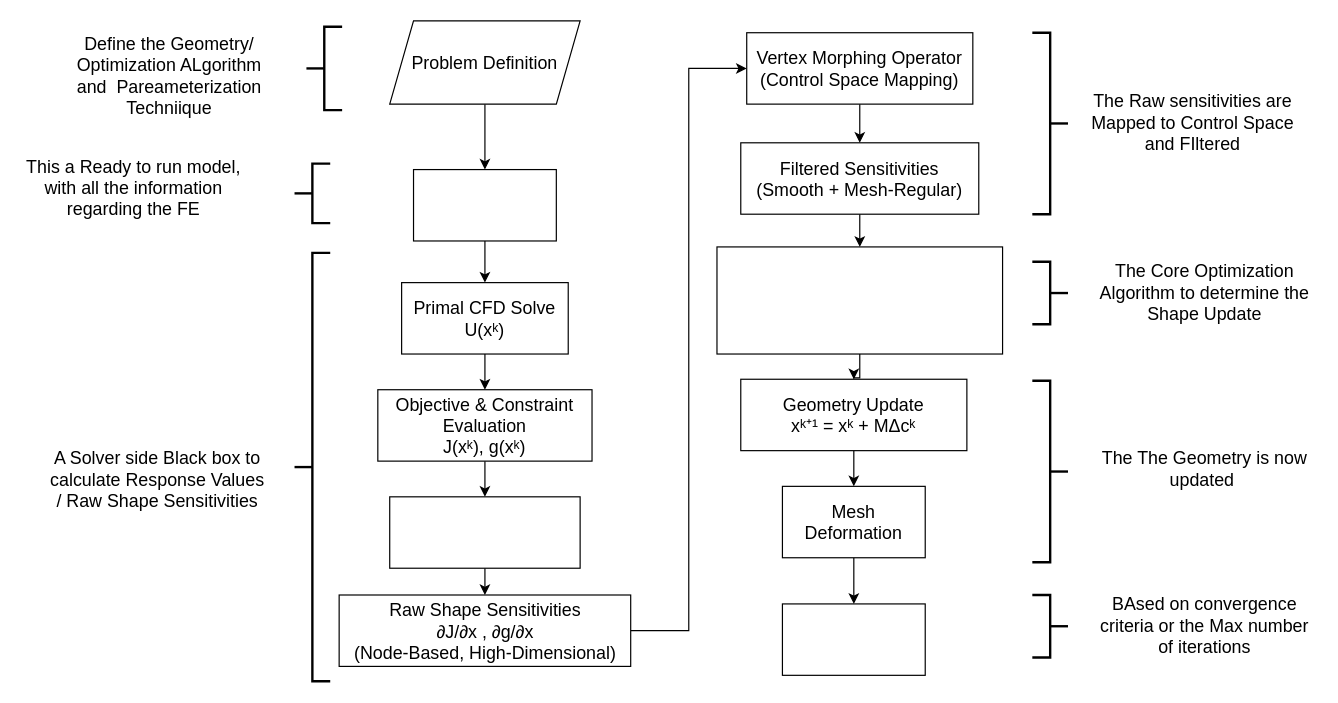
The diagram is 1338 pixels wide and 703 high, and some of its shapes have lost their labels. Here are the shapes that lost their labels. From the top down, the centre of each, then its label:
At [484,204]: "Initial Geometry x⁰".
At [859,300]: "Gradient-Based Optimizer in Control Space (Constrained /Unconstrained Update)".
At [484,532]: "Adjoint CFD Solve λ → ∂J/∂U , ∂g/∂U".
At [853,639]: "Convergence Check".
